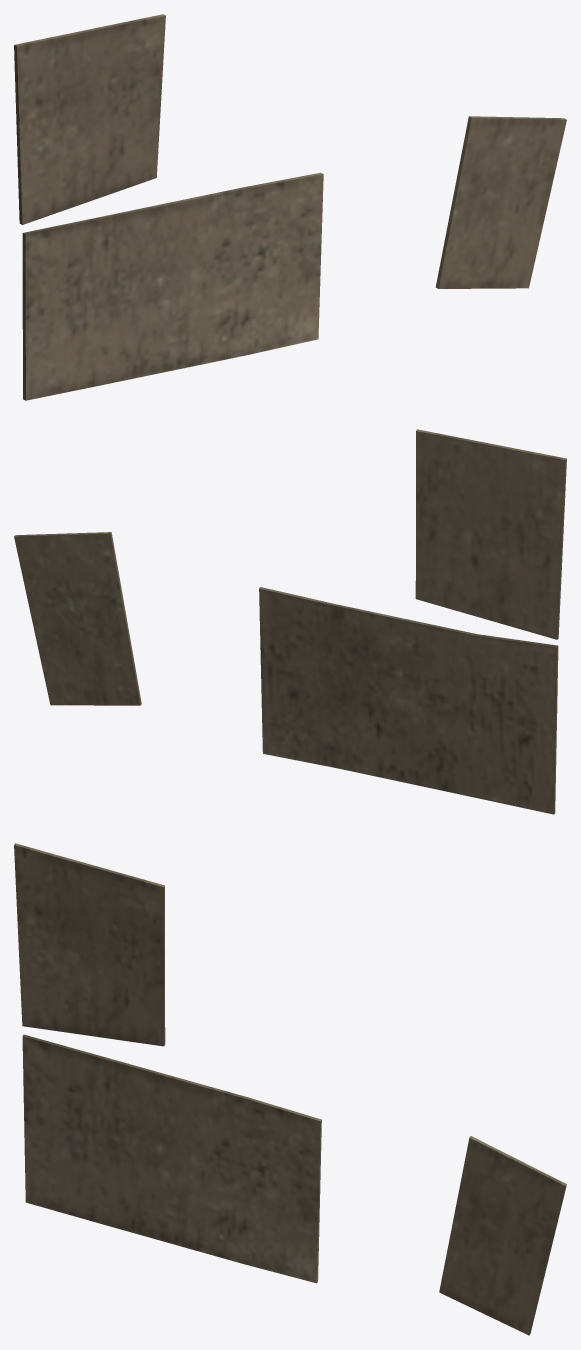
The model's file is BrownBoardSet_02.FBX.
3 renders of one model, top to bottom at view 1: azimuth 30°, elevation 25°; view 2: azimuth 150°, elevation 25°; view 3: azimuth 330°, elevation 25°, orthographic.
Visible parts, largest first — view 1: BrownBoardSmall_07, BrownBoardSmall_06, BrownBoardSmall_08; view 2: BrownBoardSmall_07, BrownBoardSmall_06, BrownBoardSmall_08; view 3: BrownBoardSmall_07, BrownBoardSmall_06, BrownBoardSmall_08.
Part boxes in pixels (bbox=[...]): BrownBoardSmall_07: bbox=[22, 172, 323, 400]; BrownBoardSmall_06: bbox=[14, 14, 165, 224]; BrownBoardSmall_08: bbox=[435, 116, 566, 288]; BrownBoardSmall_07: bbox=[259, 587, 558, 814]; BrownBoardSmall_06: bbox=[415, 429, 566, 639]; BrownBoardSmall_08: bbox=[14, 532, 141, 705]; BrownBoardSmall_07: bbox=[22, 1034, 321, 1283]; BrownBoardSmall_06: bbox=[14, 843, 165, 1046]; BrownBoardSmall_08: bbox=[439, 1136, 566, 1335].
Size of the model in its own units: 236 by 151 by 5.58.
